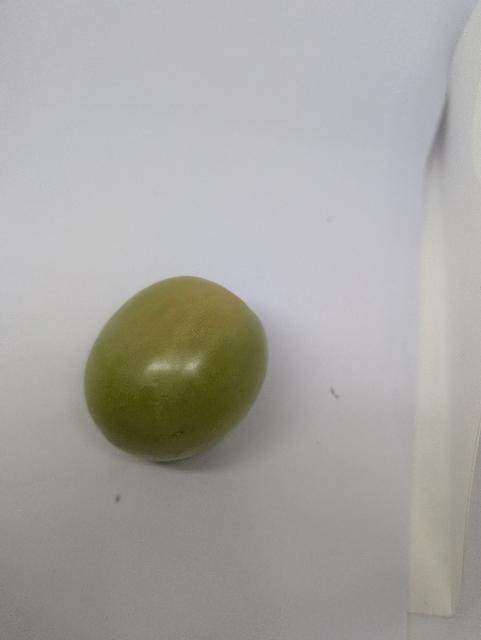green: (69, 264, 282, 469)
